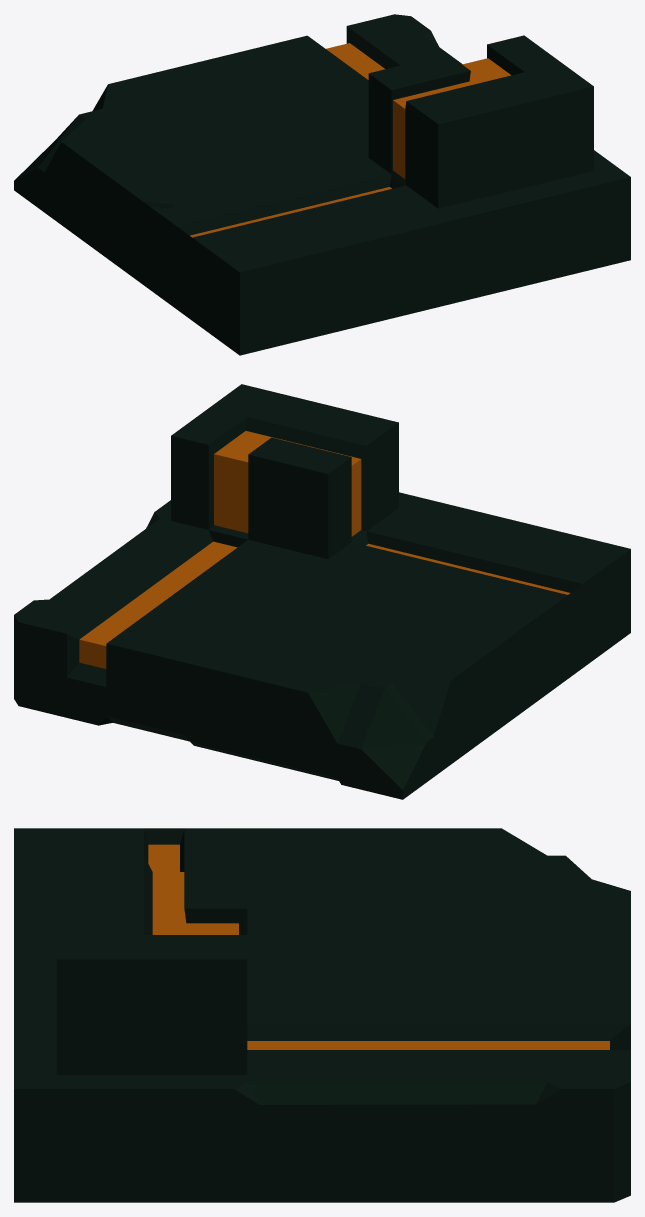
File: Lava_rock.fbx
The picture shows the model from 3 angles, top to bottom: view 1: azimuth 30°, elevation 25°; view 2: azimuth 150°, elevation 25°; view 3: azimuth 270°, elevation 25°; orthographic projection. The views are drawn at different scales.
Visible parts, largest first — view 1: MESH_lava_rock; view 2: MESH_lava_rock; view 3: MESH_lava_rock.
Boxes of the visible parts, left/top/right/bottom form: MESH_lava_rock: left=14, top=14, right=630, bottom=355; MESH_lava_rock: left=14, top=384, right=630, bottom=799; MESH_lava_rock: left=14, top=828, right=630, bottom=1202.
Bounding box in the file's own units: 12.35 × 5.05 × 12.35.
